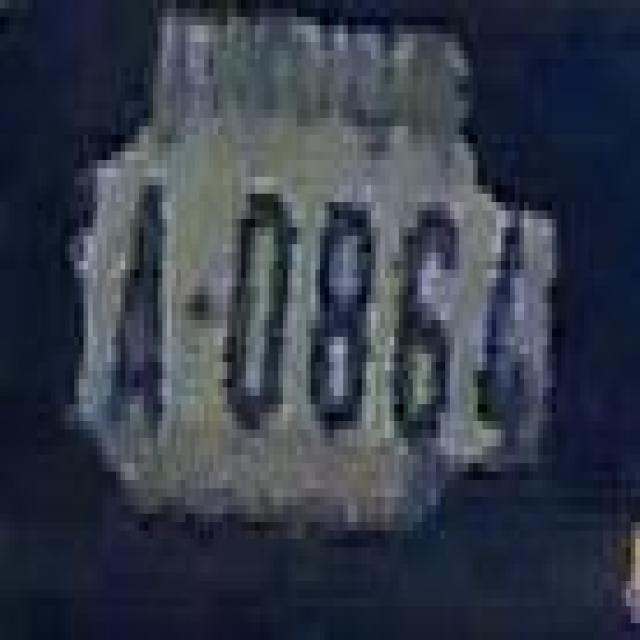Preah_Sihanouk: (144, 0, 408, 163)
